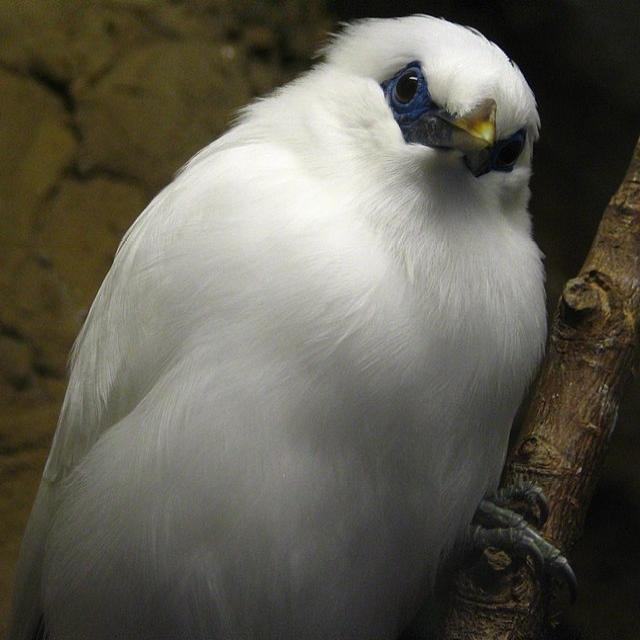Jalak Bali: (6, 5, 602, 640)
